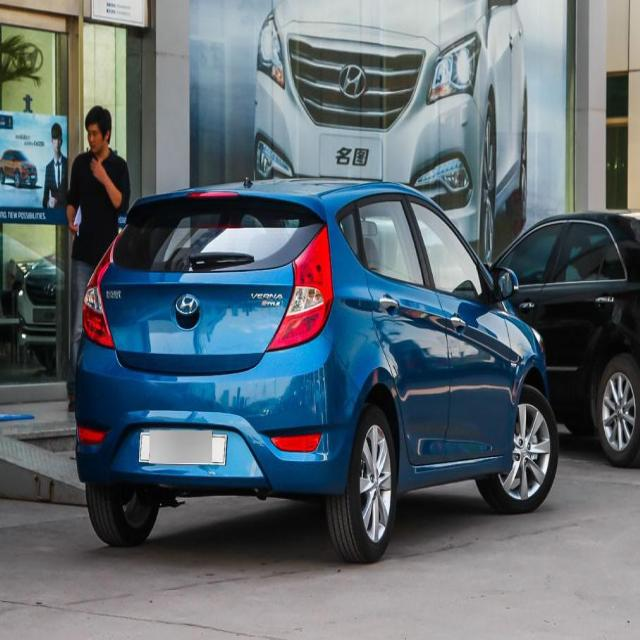back_glass: (112, 201, 324, 270)
back_left_side_light: (78, 225, 118, 351)
back_right_side_light: (264, 218, 335, 350)
door: (352, 205, 450, 472)
front_right_side_door: (403, 186, 515, 468)
front_right_side_mirror: (491, 262, 519, 308)
rear_bumper: (71, 333, 356, 497)
wheel: (327, 405, 397, 563), (477, 384, 557, 512), (83, 480, 159, 547)
